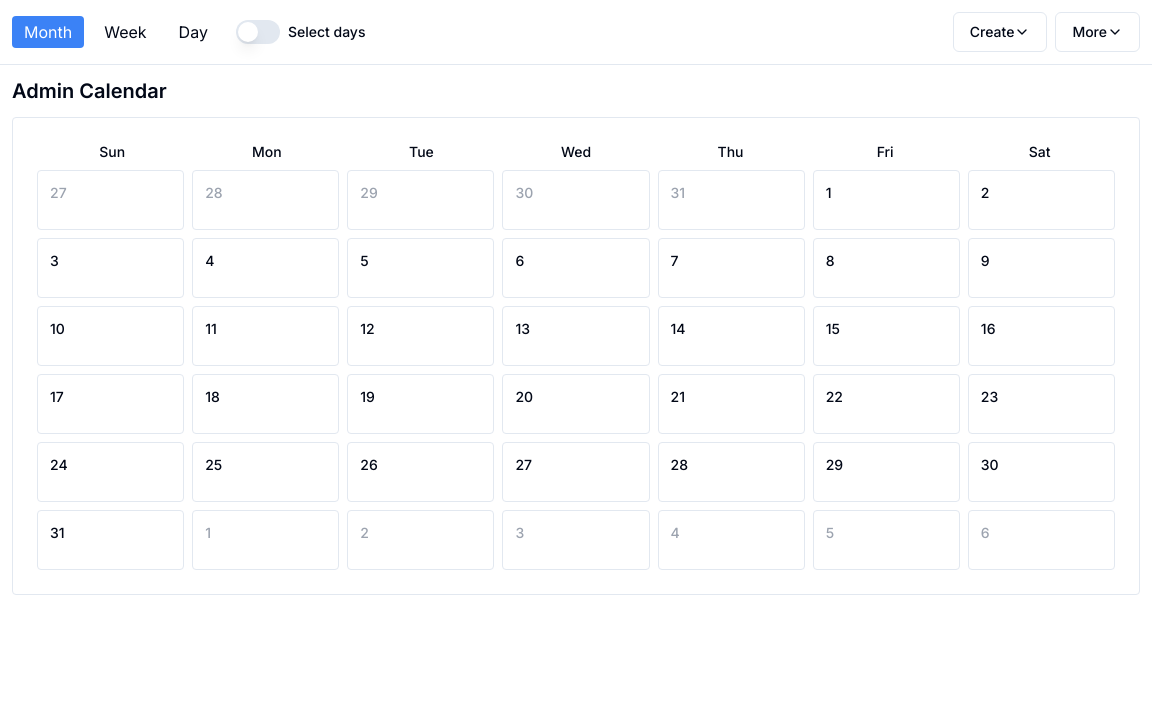
it: Admin Week View › shows "No slots" message for days without slots
Switch to week view
What coordinates should you click on to do the following:
click the button "Week"
I would click on:
 (125, 32)
Its box is [92,16,159,48].
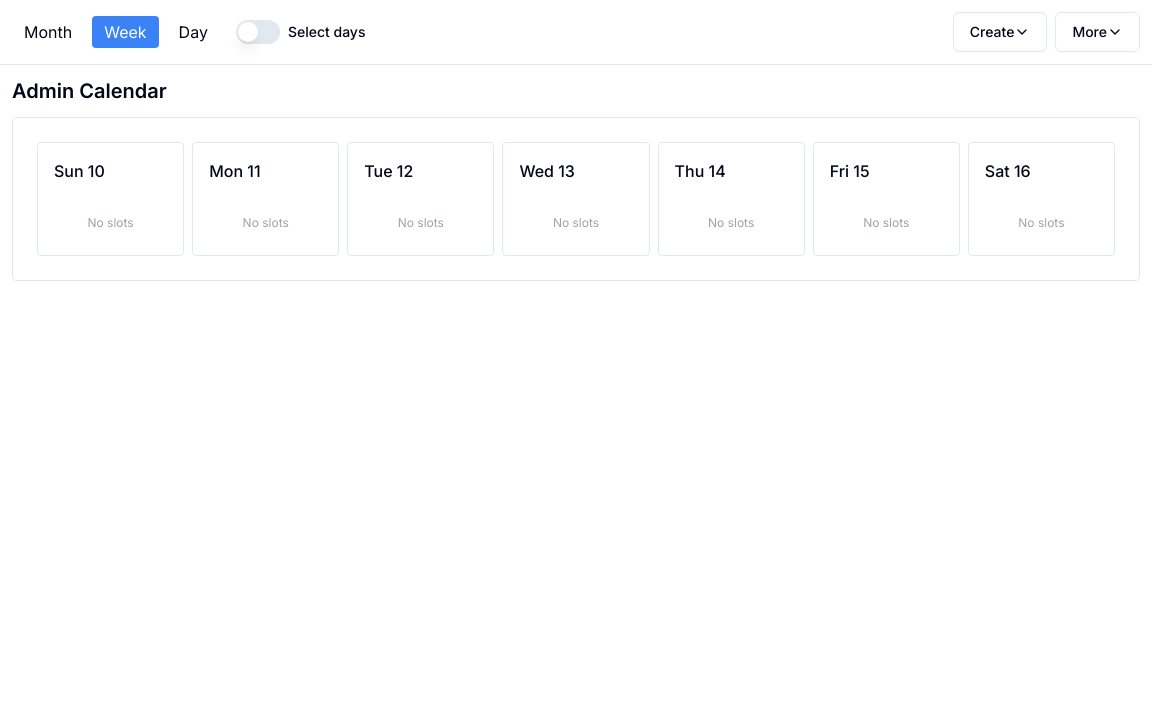
Now the text "No slots" is shown 7 times
